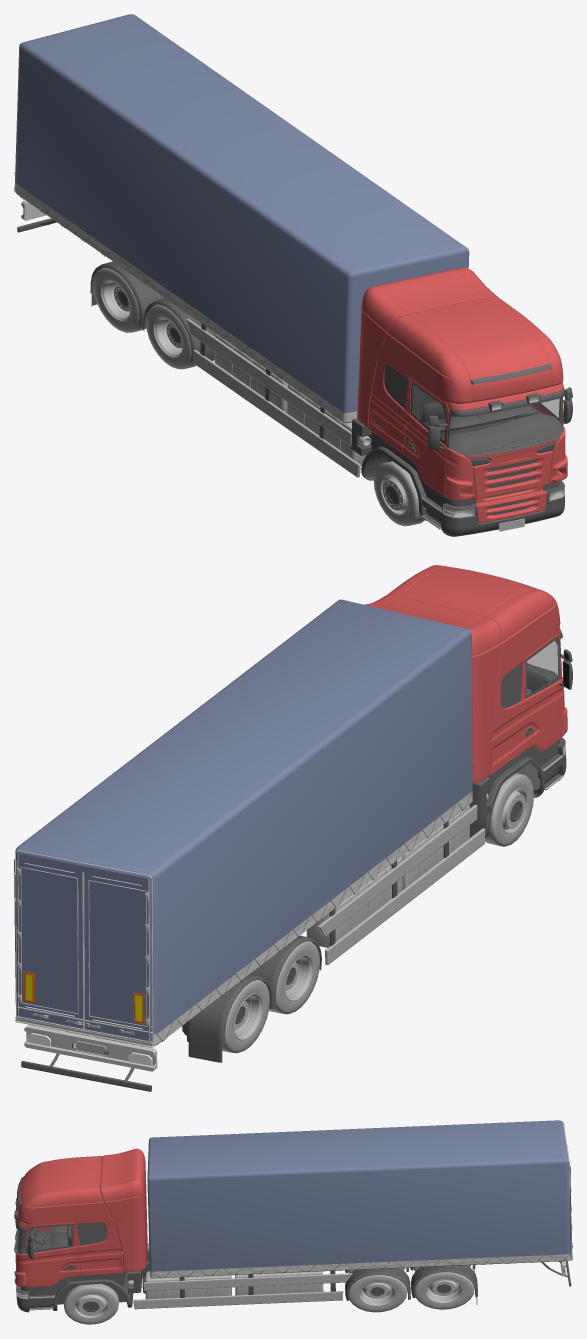
Rendered from truck2.fbx.
3 renders of one model, top to bottom at view 1: azimuth 30°, elevation 25°; view 2: azimuth 150°, elevation 25°; view 3: azimuth 270°, elevation 25°, orthographic. The views are drawn at different scales.
Parts seen in each view (by area): view 1: polySurface299, polySurface1, polySurface6, polySurface16, polySurface169, polySurface7, polySurface300, polySurface328, polySurface327, polySurface2, polySurface95, polySurface92 (+13 smaller); view 2: polySurface299, polySurface172, polySurface1, polySurface6, polySurface300, polySurface328, polySurface327, polySurface102, polySurface303, polySurface95, polySurface70, polySurface92 (+12 smaller); view 3: polySurface299, polySurface1, polySurface6, polySurface300, polySurface333, polySurface332, polySurface94, polySurface90, polySurface96, polySurface71, polySurface72, polySurface22 (+13 smaller).
Boxes of the visible parts, bbox=[...] form: polySurface299: bbox=[15, 14, 469, 412]; polySurface1: bbox=[368, 297, 567, 500]; polySurface6: bbox=[357, 267, 498, 427]; polySurface16: bbox=[410, 367, 563, 456]; polySurface169: bbox=[465, 439, 559, 522]; polySurface7: bbox=[449, 398, 563, 454]; polySurface300: bbox=[15, 183, 357, 422]; polySurface328: bbox=[193, 349, 360, 477]; polySurface327: bbox=[186, 318, 351, 445]; polySurface2: bbox=[441, 481, 564, 536]; polySurface95: bbox=[373, 461, 425, 526]; polySurface92: bbox=[93, 267, 143, 332]; polySurface299: bbox=[15, 599, 472, 1043]; polySurface172: bbox=[18, 854, 148, 1042]; polySurface1: bbox=[387, 565, 567, 775]; polySurface6: bbox=[364, 594, 501, 783]; polySurface300: bbox=[153, 791, 472, 1045]; polySurface328: bbox=[325, 828, 485, 964]; polySurface327: bbox=[317, 804, 477, 936]; polySurface102: bbox=[24, 1025, 157, 1071]; polySurface303: bbox=[187, 974, 271, 1047]; polySurface95: bbox=[485, 773, 533, 846]; polySurface70: bbox=[306, 857, 402, 947]; polySurface92: bbox=[222, 980, 269, 1053]; polySurface299: bbox=[147, 1120, 571, 1271]; polySurface1: bbox=[14, 1156, 123, 1287]; polySurface6: bbox=[100, 1148, 147, 1272]; polySurface300: bbox=[150, 1254, 570, 1277]; polySurface333: bbox=[133, 1291, 343, 1309]; polySurface332: bbox=[143, 1273, 352, 1290]; polySurface94: bbox=[64, 1283, 119, 1324]; polySurface90: bbox=[414, 1272, 474, 1309]; polySurface96: bbox=[348, 1275, 407, 1312]; polySurface71: bbox=[145, 1271, 231, 1299]; polySurface72: bbox=[235, 1271, 323, 1295]; polySurface22: bbox=[20, 1235, 125, 1308].
Size of the model in its own units: 7.46 by 10.27 by 32.62.
